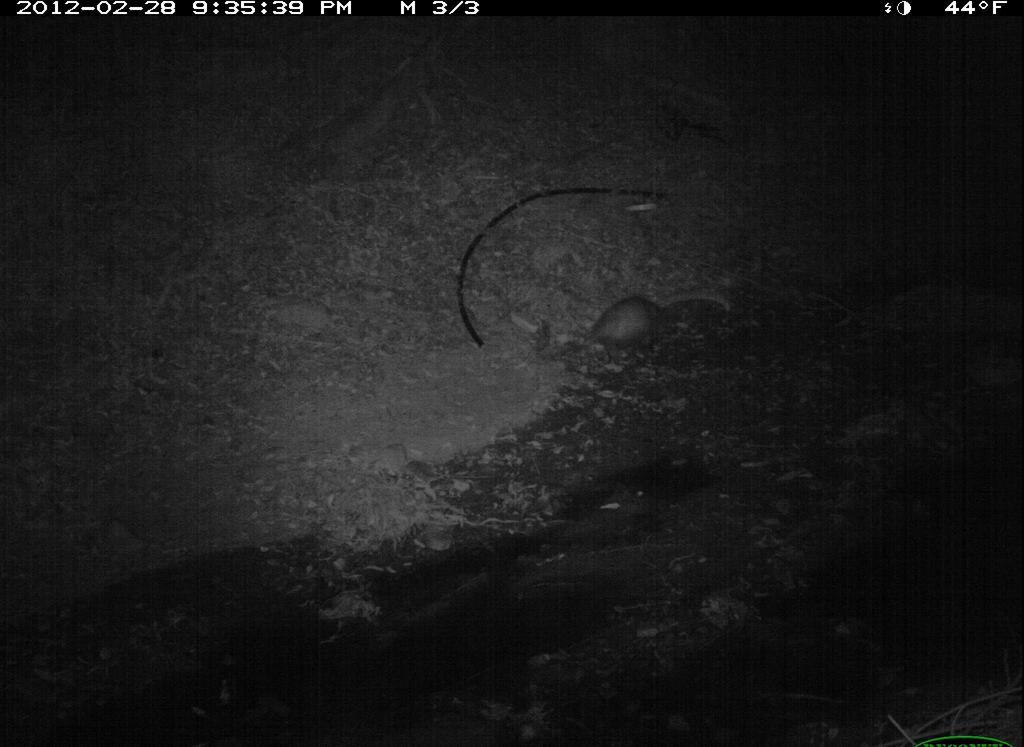opossum: (561, 294, 685, 355)
